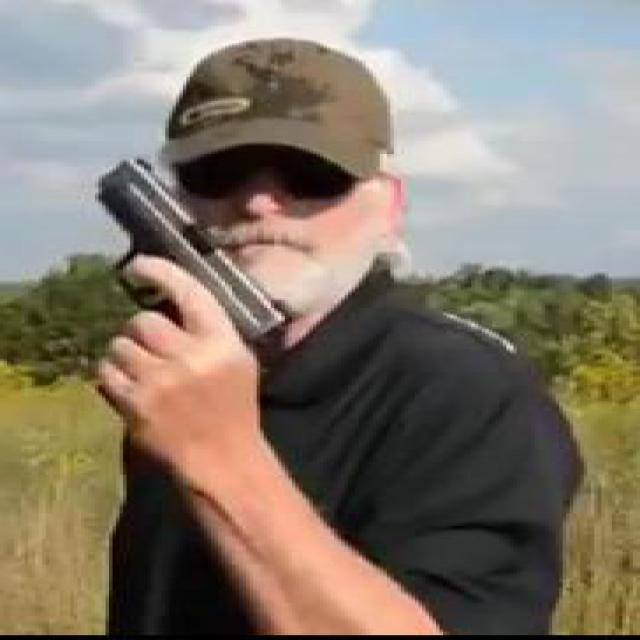Gun: (78, 156, 288, 400)
